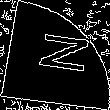N_W: (23, 31, 87, 79)
